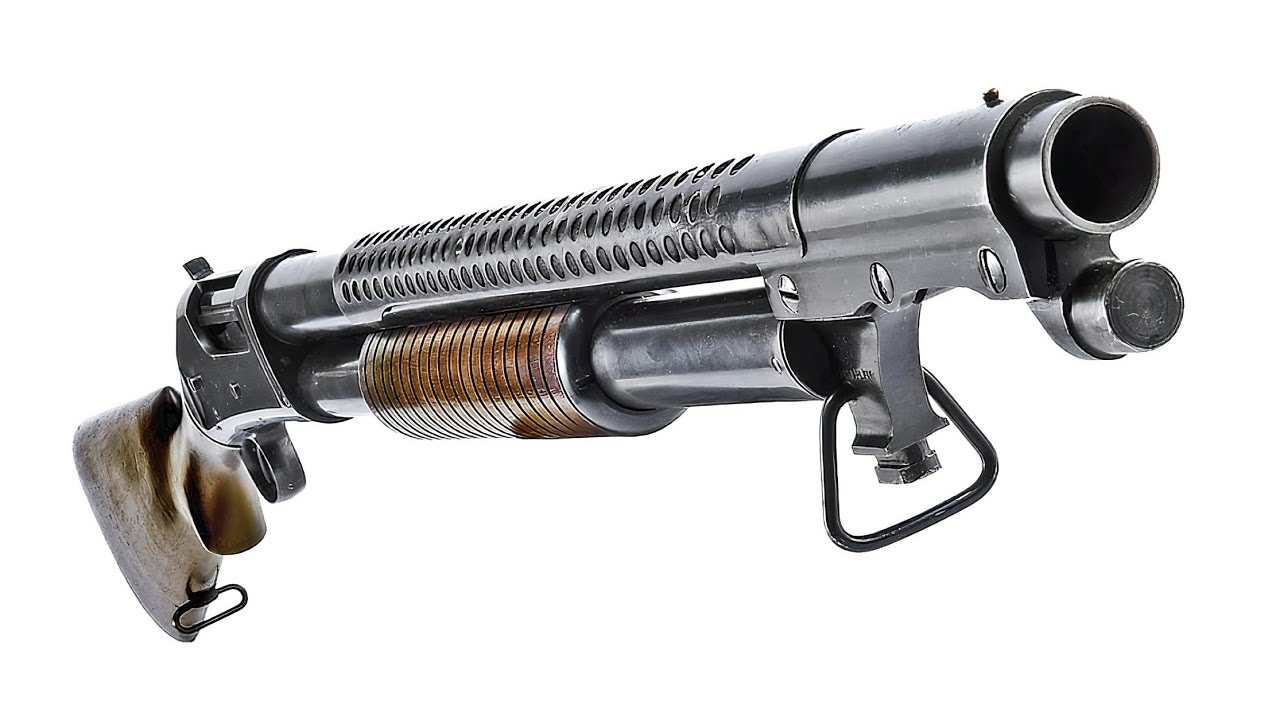weapon: (67, 83, 1184, 642)
